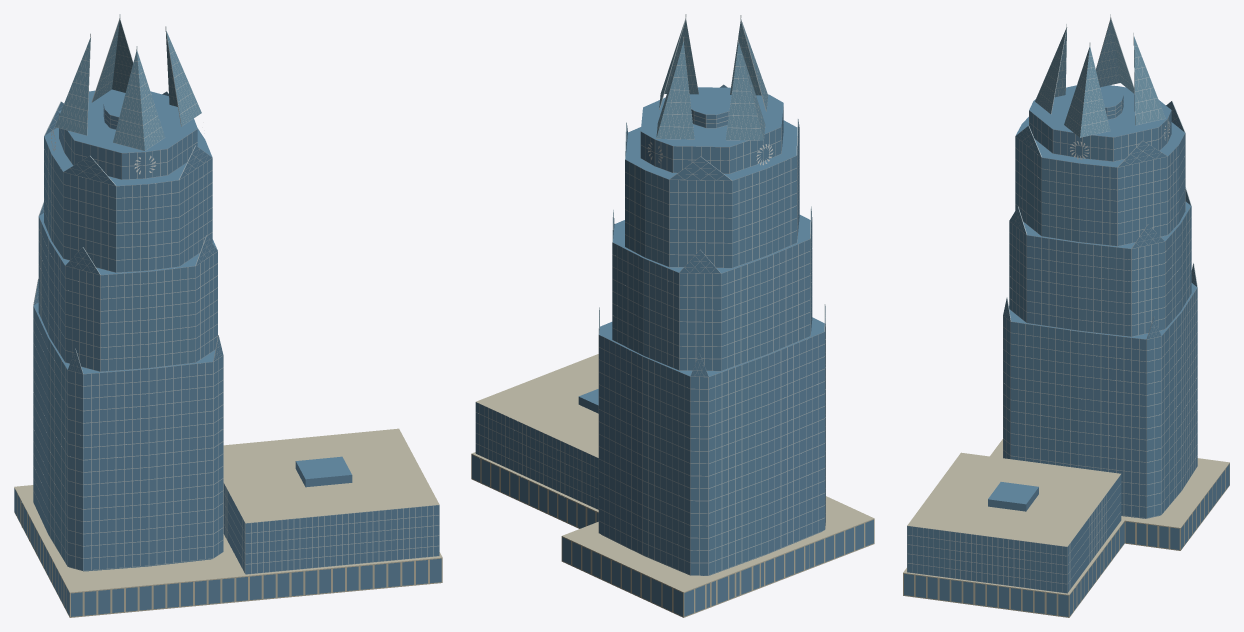
Rendered from frost-bank-tower-near.glb.
3 renders of one model, left to right at view 1: azimuth 30°, elevation 25°; view 2: azimuth 150°, elevation 25°; view 3: azimuth 270°, elevation 25°, orthographic. The views are drawn at different scales.
Parts seen in each view (by area): view 1: frost-bank-tower-0-glass, frost-bank-tower-0-blueGlass, frost-bank-tower-0-trim, frost-bank-tower-0-stone, frost-bank-tower-0-roof, frost-bank-tower-0-light, frost-bank-tower-0-occupiedGlass; view 2: frost-bank-tower-0-glass, frost-bank-tower-0-blueGlass, frost-bank-tower-0-trim, frost-bank-tower-0-stone, frost-bank-tower-0-roof, frost-bank-tower-0-light, frost-bank-tower-0-occupiedGlass; view 3: frost-bank-tower-0-glass, frost-bank-tower-0-blueGlass, frost-bank-tower-0-trim, frost-bank-tower-0-stone, frost-bank-tower-0-roof, frost-bank-tower-0-light, frost-bank-tower-0-occupiedGlass.
Boxes of the visible parts, x1=… form: frost-bank-tower-0-glass: x1=33, y1=113, x2=213, y2=570; frost-bank-tower-0-blueGlass: x1=14, y1=129, x2=441, y2=616; frost-bank-tower-0-trim: x1=33, y1=14, x2=439, y2=574; frost-bank-tower-0-stone: x1=14, y1=428, x2=442, y2=617; frost-bank-tower-0-roof: x1=33, y1=89, x2=352, y2=487; frost-bank-tower-0-light: x1=55, y1=19, x2=201, y2=150; frost-bank-tower-0-occupiedGlass: x1=33, y1=136, x2=223, y2=543; frost-bank-tower-0-glass: x1=599, y1=127, x2=824, y2=574; frost-bank-tower-0-blueGlass: x1=472, y1=107, x2=873, y2=616; frost-bank-tower-0-trim: x1=475, y1=14, x2=825, y2=575; frost-bank-tower-0-stone: x1=471, y1=354, x2=874, y2=617; frost-bank-tower-0-roof: x1=578, y1=85, x2=825, y2=413; frost-bank-tower-0-light: x1=656, y1=19, x2=767, y2=140; frost-bank-tower-0-occupiedGlass: x1=599, y1=179, x2=825, y2=562; frost-bank-tower-0-glass: x1=1011, y1=111, x2=1197, y2=517; frost-bank-tower-0-blueGlass: x1=904, y1=111, x2=1229, y2=616; frost-bank-tower-0-trim: x1=907, y1=14, x2=1197, y2=593; frost-bank-tower-0-stone: x1=903, y1=439, x2=1229, y2=617; frost-bank-tower-0-roof: x1=988, y1=85, x2=1197, y2=511; frost-bank-tower-0-light: x1=1035, y1=19, x2=1165, y2=137; frost-bank-tower-0-occupiedGlass: x1=1007, y1=148, x2=1197, y2=517.
Bounding box in the file's own units: 115 × 157 × 97.7.
